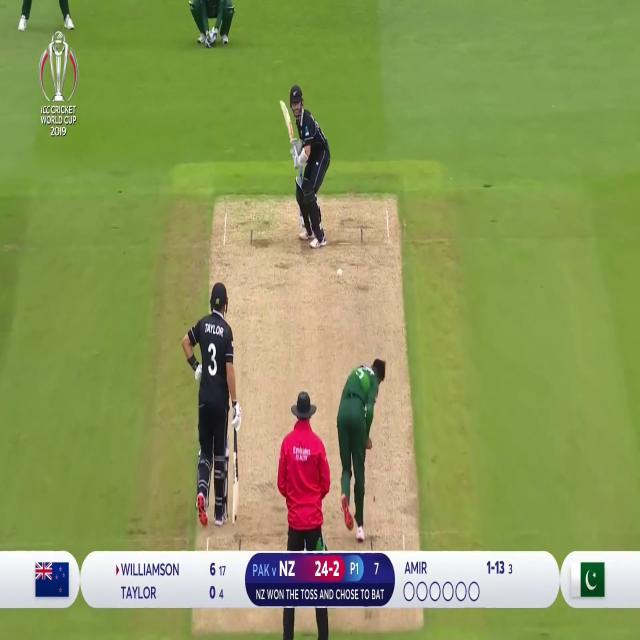bat: (279, 100, 294, 140), (233, 450, 240, 526)
toe: (233, 520, 236, 526)
